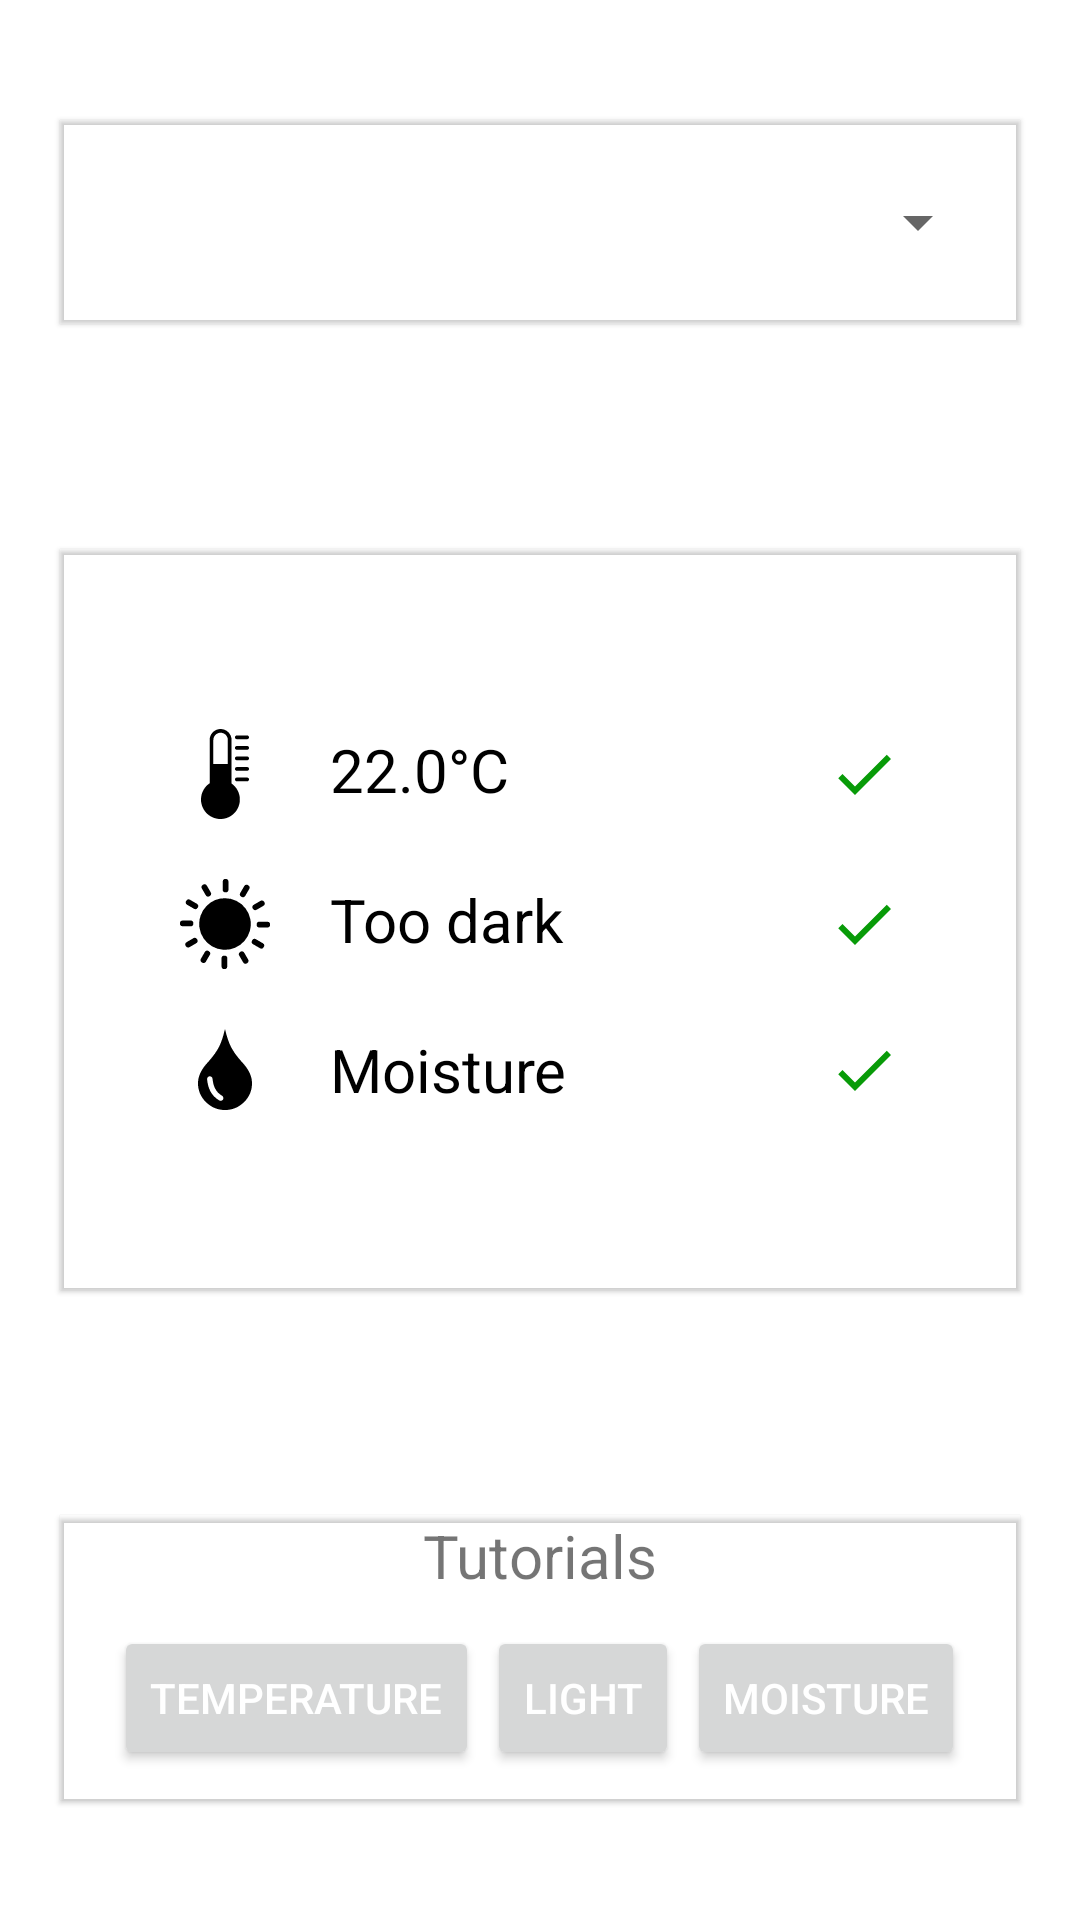

Icon click points for this 1080×1920 phone screenshot, format (x=x, y=y):
check: (x=864, y=775), (x=864, y=925), (x=864, y=1071)
drop: (x=225, y=1069)
sun warm: (x=225, y=924)
temperature thermometer: (x=225, y=774)
